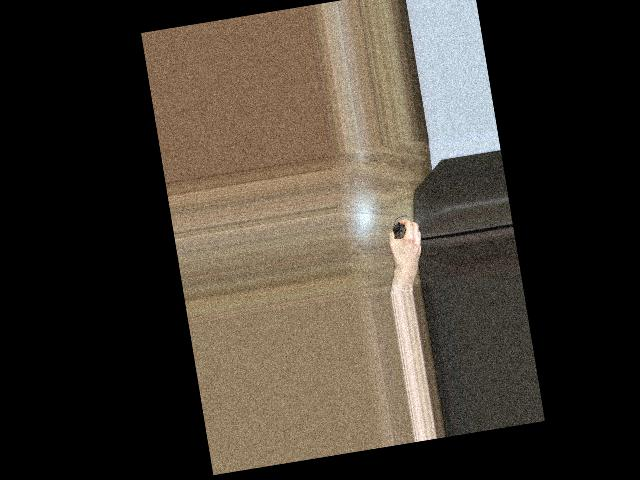beet: (390, 213, 410, 239)
